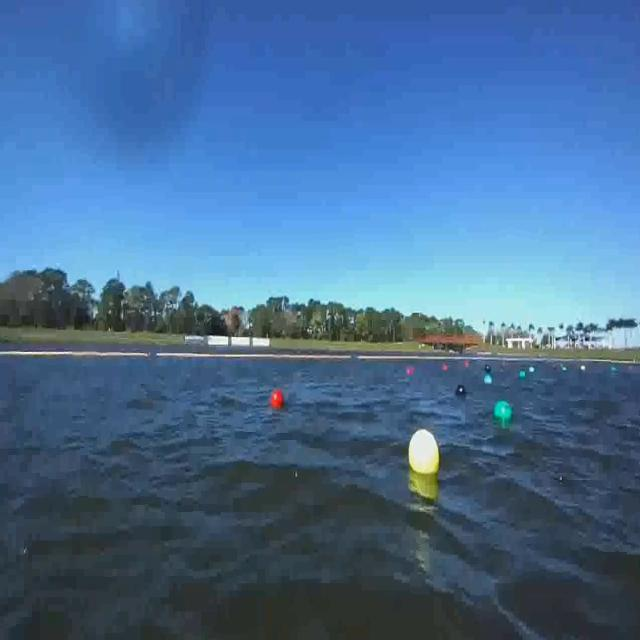black-buoy: (457, 384, 468, 398)
green-buoy: (494, 402, 512, 427), (517, 370, 525, 379)
red-buoy: (272, 392, 286, 412)
yellow-buoy: (410, 430, 440, 476)
